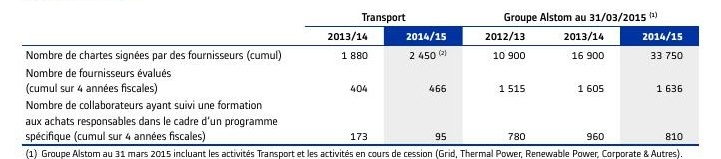table: (0, 0, 721, 159)
